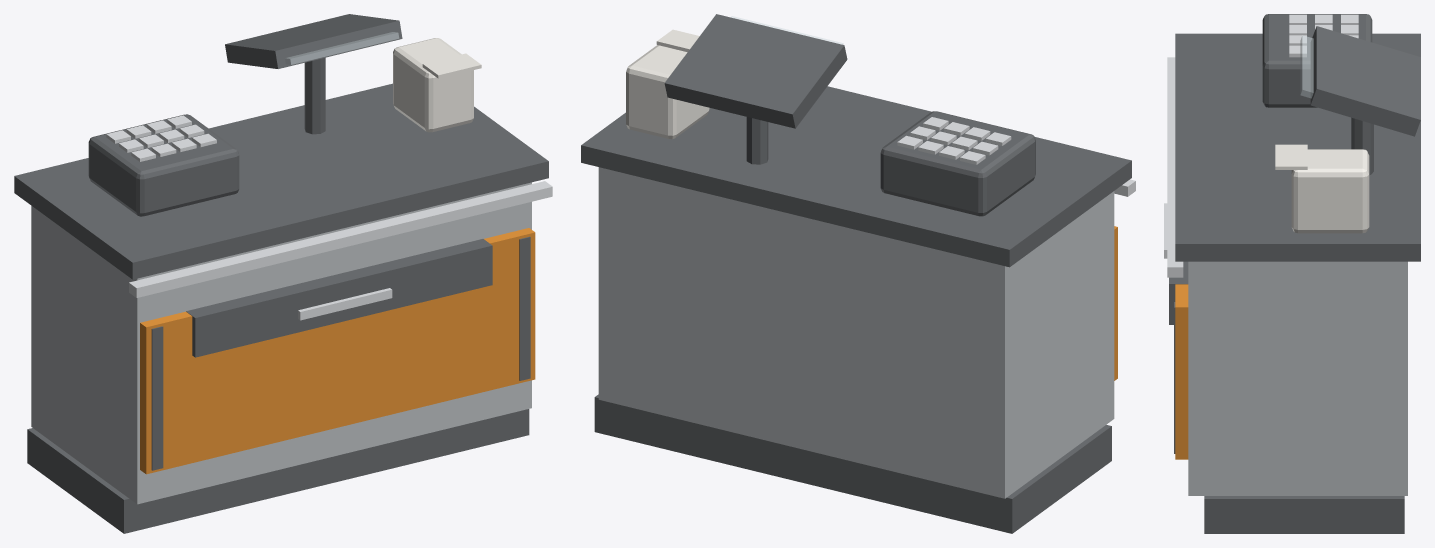
Rendered from tool-hire-depot-and-plant-yard-tool-hire-depot-and-pla-4c15468a__35298.glb.
The picture shows the model from 3 angles, left to right: view 1: azimuth 30°, elevation 25°; view 2: azimuth 150°, elevation 25°; view 3: azimuth 270°, elevation 25°; orthographic projection. The views are drawn at different scales.
Parts seen in each view (by area): view 1: tool-hire-depot-and-plant-yard-trade-counter-till-module, drawer-till/charcoal, drawer-till/steel; view 2: tool-hire-depot-and-plant-yard-trade-counter-till-module; view 3: tool-hire-depot-and-plant-yard-trade-counter-till-module, drawer-till/charcoal.
Boxes of the visible parts, <box> form: tool-hire-depot-and-plant-yard-trade-counter-till-module: <box>14,14,552,533</box>; drawer-till/charcoal: <box>186,239,492,357</box>; drawer-till/steel: <box>298,288,392,320</box>; tool-hire-depot-and-plant-yard-trade-counter-till-module: <box>581,14,1135,533</box>; tool-hire-depot-and-plant-yard-trade-counter-till-module: <box>1167,14,1420,533</box>; drawer-till/charcoal: <box>1169,261,1188,324</box>.
Size of the model in its own units: 1.54 by 1.39 by 0.7953.
